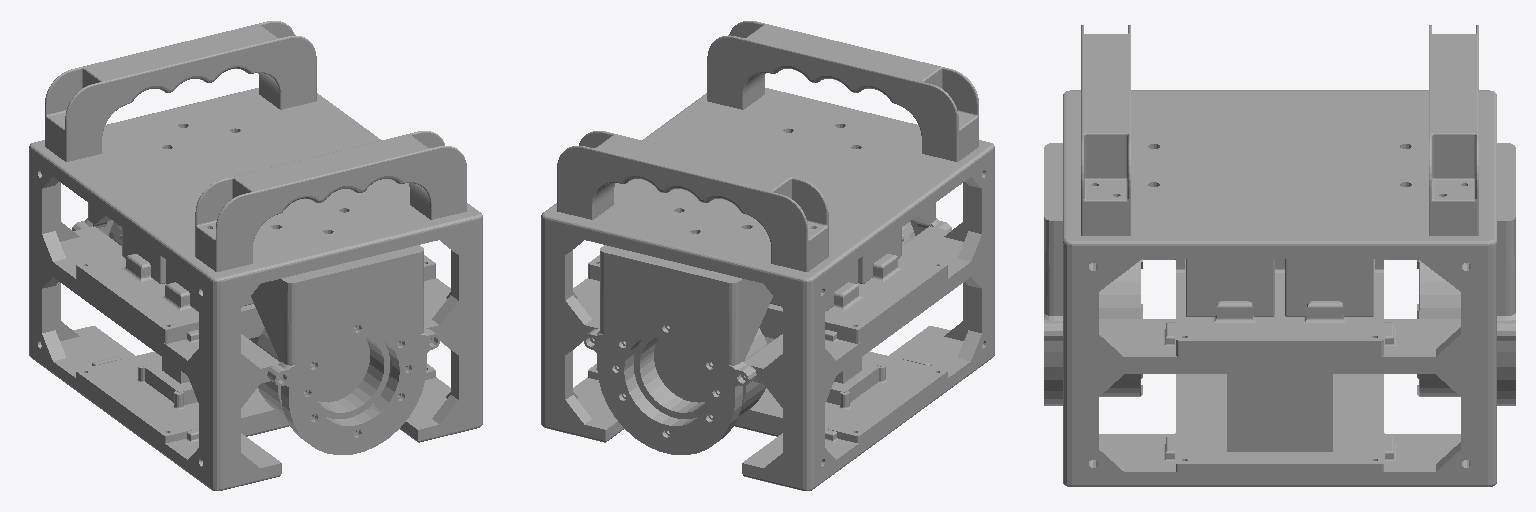
robot.urdf — phase_2_with_body:
<?xml version="1.0" encoding="utf-8"?>
<!-- This URDF was automatically created by SolidWorks to URDF Exporter! Originally created by [author] ([email redacted]) 
     Commit Version: 1.6.0-4-g7f85cfe  Build Version: 1.6.7995.38578
     For more information, please see http://wiki.ros.org/sw_urdf_exporter -->
<robot
  name="phase_2_with_body">
  <link
    name="base_link">
    <inertial>
      <origin
        xyz="-3.4536E-17 0.081103 -5.7912E-17"
        rpy="0 0 0" />
      <mass
        value="1.6532" />
      <inertia
        ixx="0.013539"
        ixy="-4.9342E-19"
        ixz="4.3913E-09"
        iyy="0.01565"
        iyz="4.5489E-20"
        izz="0.012432" />
    </inertial>
    <visual>
      <origin
        xyz="0 0 0"
        rpy="0 0 0" />
      <geometry>
        <mesh
          filename="package://phase_2_with_body/meshes/base_link.STL" />
      </geometry>
      <material
        name="">
        <color
          rgba="0.69804 0.69804 0.69804 1" />
      </material>
    </visual>
    <collision>
      <origin
        xyz="0 0 0"
        rpy="0 0 0" />
      <geometry>
        <mesh
          filename="package://phase_2_with_body/meshes/base_link.STL" />
      </geometry>
    </collision>
  </link>
  <link
    name="leftleg">
    <inertial>
      <origin
        xyz="0.073251 -0.020583 -6.7515E-07"
        rpy="0 0 0" />
      <mass
        value="0.28259" />
      <inertia
        ixx="0.00014779"
        ixy="3.9261E-05"
        ixz="-1.1308E-08"
        iyy="0.0012793"
        iyz="2.4962E-09"
        izz="0.001156" />
    </inertial>
    <visual>
      <origin
        xyz="0 0 0"
        rpy="0 0 0" />
      <geometry>
        <mesh
          filename="package://phase_2_with_body/meshes/leftleg.STL" />
      </geometry>
      <material
        name="">
        <color
          rgba="0.69804 0.69804 0.69804 1" />
      </material>
    </visual>
    <collision>
      <origin
        xyz="0 0 0"
        rpy="0 0 0" />
      <geometry>
        <mesh
          filename="package://phase_2_with_body/meshes/leftleg.STL" />
      </geometry>
    </collision>
  </link>
  <joint
    name="j1"
    type="revolute">
    <origin
      xyz="0 -0.121 0.06"
      rpy="0 0.73435 0" />
    <parent
      link="base_link" />
    <child
      link="leftleg" />
    <axis
      xyz="0 -1 0" />
    <limit
      lower="0"
      upper="0"
      effort="0"
      velocity="0" />
  </joint>
  <link
    name="lefthip">
    <inertial>
      <origin
        xyz="0.070185 0.010348 -8.6538E-07"
        rpy="0 0 0" />
      <mass
        value="0.17148" />
      <inertia
        ixx="9.0843E-05"
        ixy="3.395E-05"
        ixz="-8.3404E-09"
        iyy="0.00078138"
        iyz="2.1743E-09"
        izz="0.00071185" />
    </inertial>
    <visual>
      <origin
        xyz="0 0 0"
        rpy="0 0 0" />
      <geometry>
        <mesh
          filename="package://phase_2_with_body/meshes/lefthip.STL" />
      </geometry>
      <material
        name="">
        <color
          rgba="0.69804 0.69804 0.69804 1" />
      </material>
    </visual>
    <collision>
      <origin
        xyz="0 0 0"
        rpy="0 0 0" />
      <geometry>
        <mesh
          filename="package://phase_2_with_body/meshes/lefthip.STL" />
      </geometry>
    </collision>
  </link>
  <joint
    name="j2"
    type="revolute">
    <origin
      xyz="0.165 -0.051 0"
      rpy="0 1.5708 0" />
    <parent
      link="leftleg" />
    <child
      link="lefthip" />
    <axis
      xyz="0 0 0" />
    <limit
      lower="0"
      upper="0"
      effort="0"
      velocity="0" />
  </joint>
  <link
    name="leftwheel">
    <inertial>
      <origin
        xyz="-4.1911E-15 -0.0128 -8.8818E-16"
        rpy="0 0 0" />
      <mass
        value="0.21867" />
      <inertia
        ixx="0.00041387"
        ixy="2.4714E-20"
        ixz="-9.3512E-19"
        iyy="0.00081466"
        iyz="-1.3336E-19"
        izz="0.00041387" />
    </inertial>
    <visual>
      <origin
        xyz="0 0 0"
        rpy="0 0 0" />
      <geometry>
        <mesh
          filename="package://phase_2_with_body/meshes/leftwheel.STL" />
      </geometry>
      <material
        name="">
        <color
          rgba="0.69804 0.69804 0.69804 1" />
      </material>
    </visual>
    <collision>
      <origin
        xyz="0 0 0"
        rpy="0 0 0" />
      <geometry>
        <mesh
          filename="package://phase_2_with_body/meshes/leftwheel.STL" />
      </geometry>
    </collision>
  </link>
  <joint
    name="j3"
    type="revolute">
    <origin
      xyz="0.165 -0.0082 0"
      rpy="0 -1.469 0" />
    <parent
      link="lefthip" />
    <child
      link="leftwheel" />
    <axis
      xyz="0 -1 0" />
    <limit
      lower="0"
      upper="0"
      effort="0"
      velocity="0" />
  </joint>
  <link
    name="rightleg">
    <inertial>
      <origin
        xyz="-3.4536E-17 0.081103 -5.7912E-17"
        rpy="0 0 0" />
      <mass
        value="1.6532" />
      <inertia
        ixx="0.013539"
        ixy="-4.9342E-19"
        ixz="4.3913E-09"
        iyy="0.01565"
        iyz="4.5489E-20"
        izz="0.012432" />
    </inertial>
    <visual>
      <origin
        xyz="0 0 0"
        rpy="0 0 0" />
      <geometry>
        <mesh
          filename="package://phase_2_with_body/meshes/rightleg.STL" />
      </geometry>
      <material
        name="">
        <color
          rgba="0.69804 0.69804 0.69804 1" />
      </material>
    </visual>
    <collision>
      <origin
        xyz="0 0 0"
        rpy="0 0 0" />
      <geometry>
        <mesh
          filename="package://phase_2_with_body/meshes/rightleg.STL" />
      </geometry>
    </collision>
  </link>
  <joint
    name="j4"
    type="revolute">
    <origin
      xyz="0 0.121 0.06"
      rpy="3.1416 0.73435 0" />
    <parent
      link="base_link" />
    <child
      link="rightleg" />
    <axis
      xyz="0 -1 0" />
    <limit
      lower="0"
      upper="0"
      effort="0"
      velocity="0" />
  </joint>
  <link
    name="righthip">
    <inertial>
      <origin
        xyz="0.070185 0.010348 -8.6538E-07"
        rpy="0 0 0" />
      <mass
        value="0.17148" />
      <inertia
        ixx="9.0843E-05"
        ixy="3.395E-05"
        ixz="-8.3404E-09"
        iyy="0.00078138"
        iyz="2.1743E-09"
        izz="0.00071185" />
    </inertial>
    <visual>
      <origin
        xyz="0 0 0"
        rpy="0 0 0" />
      <geometry>
        <mesh
          filename="package://phase_2_with_body/meshes/righthip.STL" />
      </geometry>
      <material
        name="">
        <color
          rgba="0.69804 0.69804 0.69804 1" />
      </material>
    </visual>
    <collision>
      <origin
        xyz="0 0 0"
        rpy="0 0 0" />
      <geometry>
        <mesh
          filename="package://phase_2_with_body/meshes/righthip.STL" />
      </geometry>
    </collision>
  </link>
  <joint
    name="j5"
    type="revolute">
    <origin
      xyz="0.165 -0.051 0"
      rpy="3.1416 -1.5708 0" />
    <parent
      link="rightleg" />
    <child
      link="righthip" />
    <axis
      xyz="0 0 0" />
    <limit
      lower="0"
      upper="0"
      effort="0"
      velocity="0" />
  </joint>
  <link
    name="rightwheel">
    <inertial>
      <origin
        xyz="1.9929E-14 -5.2736E-16 -2.5258E-14"
        rpy="0 0 0" />
      <mass
        value="0.21867" />
      <inertia
        ixx="0.00041387"
        ixy="2.8474E-20"
        ixz="-1.1384E-18"
        iyy="0.00081466"
        iyz="1.387E-19"
        izz="0.00041387" />
    </inertial>
    <visual>
      <origin
        xyz="0 0 0"
        rpy="0 0 0" />
      <geometry>
        <mesh
          filename="package://phase_2_with_body/meshes/rightwheel.STL" />
      </geometry>
      <material
        name="">
        <color
          rgba="0.69804 0.69804 0.69804 1" />
      </material>
    </visual>
    <collision>
      <origin
        xyz="0 0 0"
        rpy="0 0 0" />
      <geometry>
        <mesh
          filename="package://phase_2_with_body/meshes/rightwheel.STL" />
      </geometry>
    </collision>
  </link>
  <joint
    name="j6"
    type="revolute">
    <origin
      xyz="0.165 -0.021 0"
      rpy="0 1.469 0" />
    <parent
      link="righthip" />
    <child
      link="rightwheel" />
    <axis
      xyz="0 0 0" />
    <limit
      lower="0"
      upper="0"
      effort="0"
      velocity="0" />
  </joint>
</robot>

--- Render facts (derived) ---
The picture shows the robot from 3 angles, left to right: view 1: azimuth 30°, elevation 25°; view 2: azimuth 150°, elevation 25°; view 3: azimuth 270°, elevation 25°; orthographic projection.
Model phase_2_with_body with 7 links and 6 joints (6 revolute), rooted at base_link, posed all joints at 0.
Links seen in each view (by area): view 1: base_link; view 2: base_link; view 3: base_link.
Link boxes in pixels (<box>): base_link: <box>29,21,482,490</box>; base_link: <box>541,21,994,490</box>; base_link: <box>1044,25,1515,486</box>.
Size in the robot's own frame: 0.2 by 0.26 by 0.2 metres.
1 mesh visuals loaded from 7 distinct referenced files (1 binary STL); not drawn: 6 (reference not matched to a file when rendering).